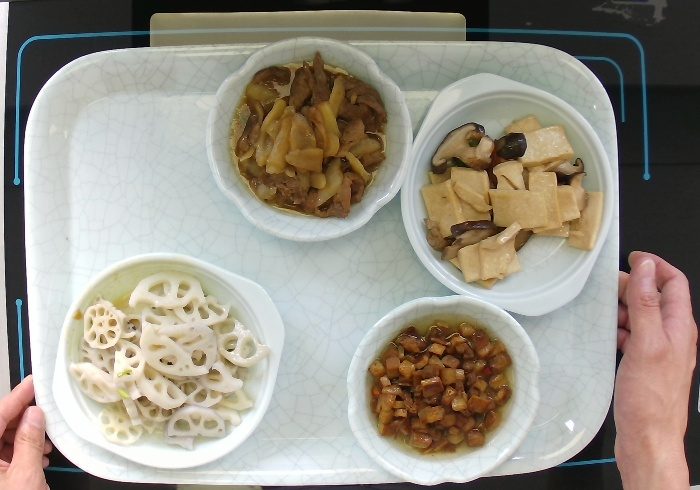JYsf-Ao_Yuan_Wan: (201, 32, 416, 246), (343, 292, 544, 489)
JYsf-Shuang_Er_Pan: (395, 68, 619, 319), (48, 247, 289, 474)
